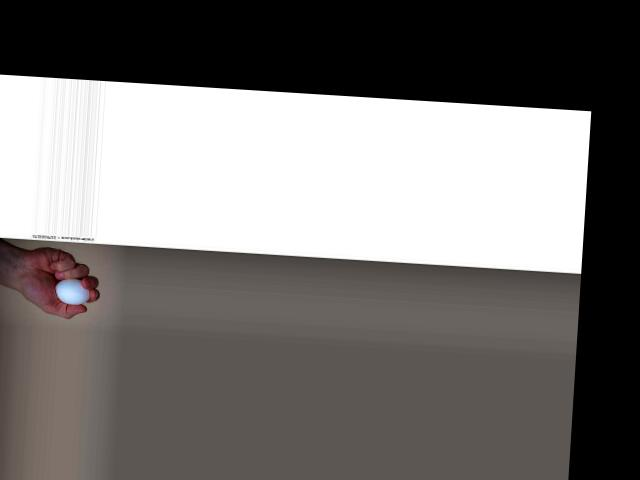egg: (53, 277, 90, 305)
